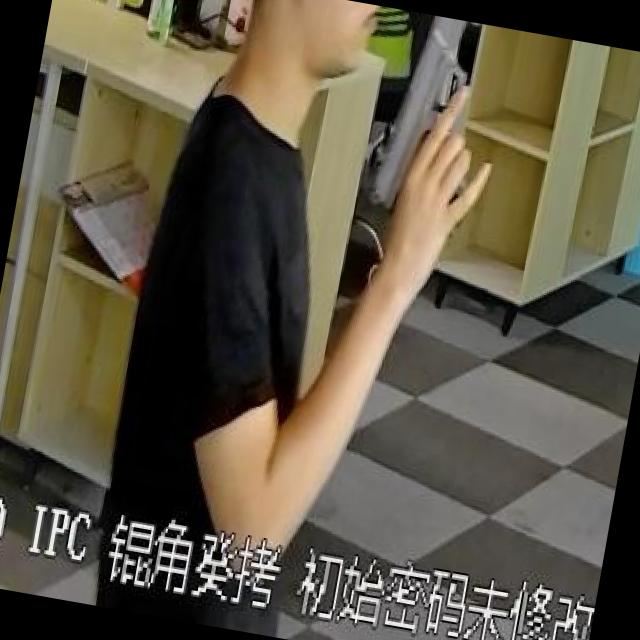Guns: (348, 7, 503, 252)
